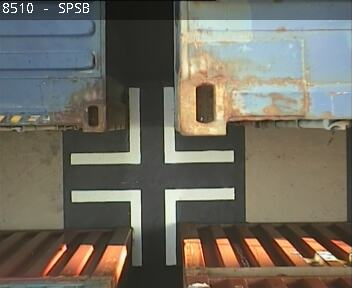groundmarker_1: (70, 88, 233, 165), (71, 188, 234, 265)
